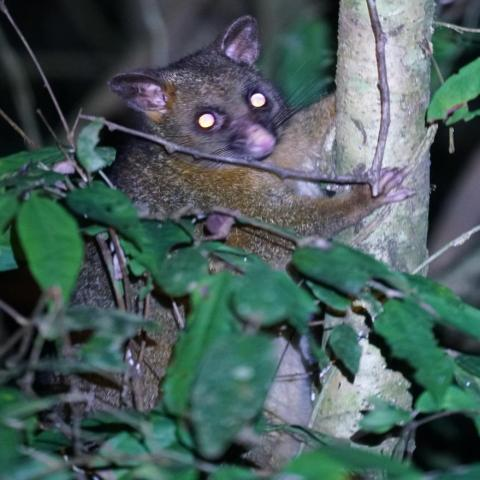small_animal: (61, 14, 418, 459)
